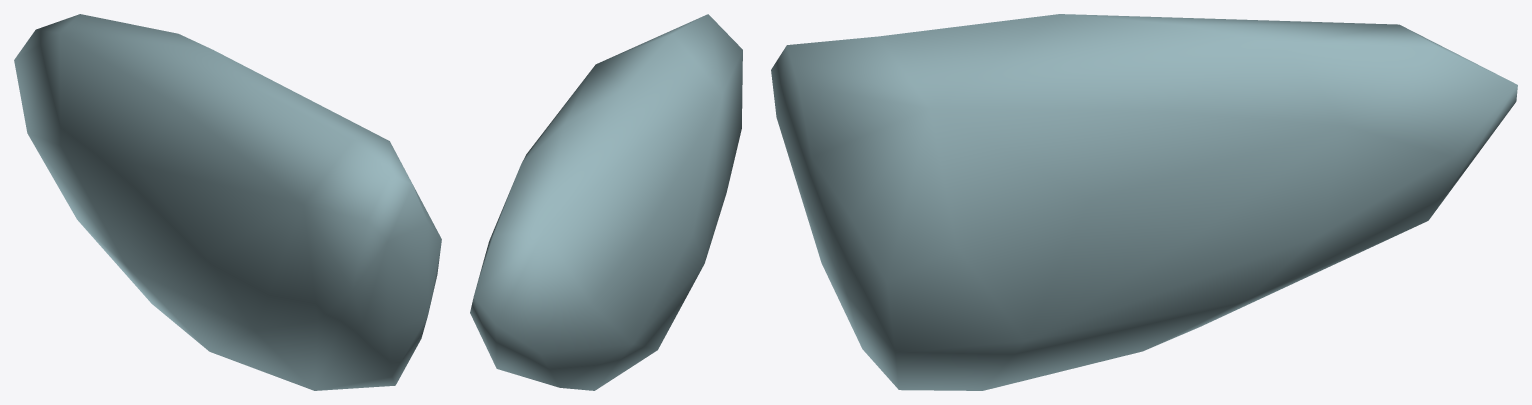
3 views of the same model, side by side, from view 1: azimuth 30°, elevation 25°; view 2: azimuth 150°, elevation 25°; view 3: azimuth 270°, elevation 25° (orthographic). The views are drawn at different scales.
Visible parts, largest first — view 1: VD_CF; view 2: VD_CF; view 3: VD_CF.
Boxes of the visible parts, x1,y1,x2,y2 form: VD_CF: (14, 14, 441, 390); VD_CF: (470, 14, 742, 390); VD_CF: (771, 14, 1517, 390).
Bounding box in the file's own units: 4.76 × 6.62 × 13.08.
